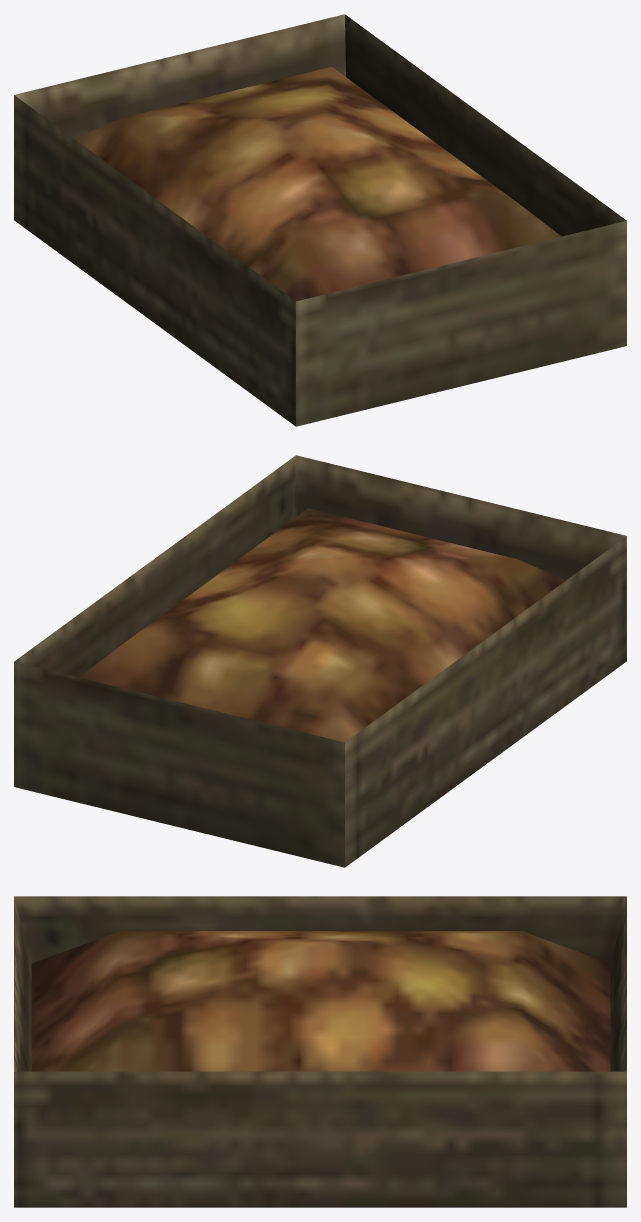
The model's file is OZ_24_ta_Fbox01C.glb.
The picture shows the model from 3 angles, top to bottom: view 1: azimuth 30°, elevation 25°; view 2: azimuth 150°, elevation 25°; view 3: azimuth 270°, elevation 25°; orthographic projection. The views are drawn at different scales.
Visible parts, largest first — view 1: OM_24_ta_Fbox01C; view 2: OM_24_ta_Fbox01C; view 3: OM_24_ta_Fbox01C.
Boxes of the visible parts, left/top/right/bottom form: OM_24_ta_Fbox01C: left=14, top=14, right=626, bottom=426; OM_24_ta_Fbox01C: left=14, top=455, right=626, bottom=867; OM_24_ta_Fbox01C: left=14, top=896, right=626, bottom=1207.
Size of the model in its own units: 0.3866 by 0.1809 by 0.5709.
1 material, 1 textured.
